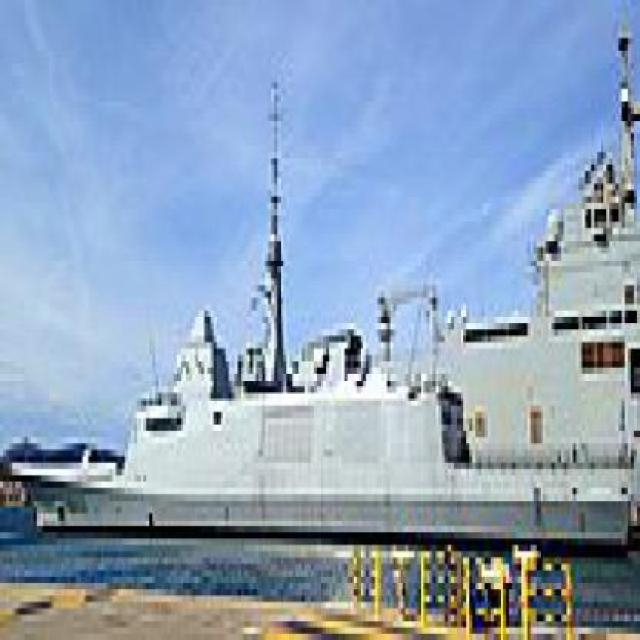warship2: (1, 108, 626, 559), (352, 46, 638, 483)
